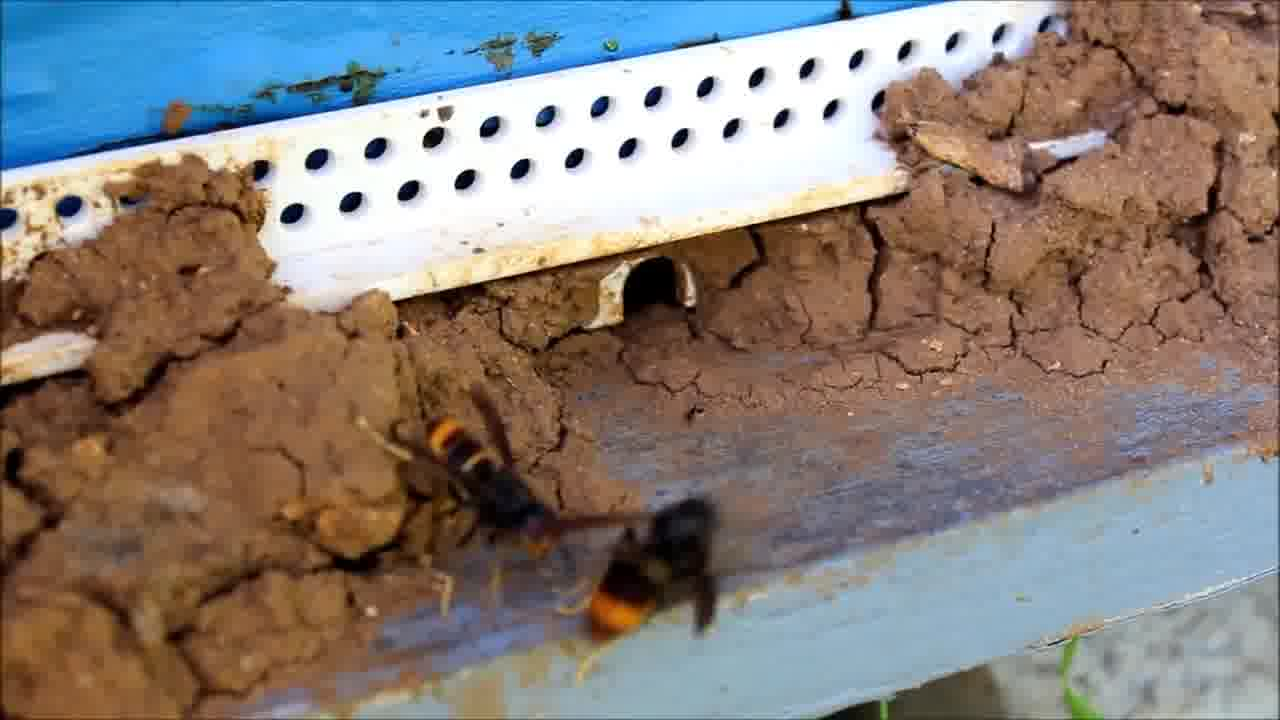hornet: (390, 400, 567, 562), (562, 493, 738, 653)
